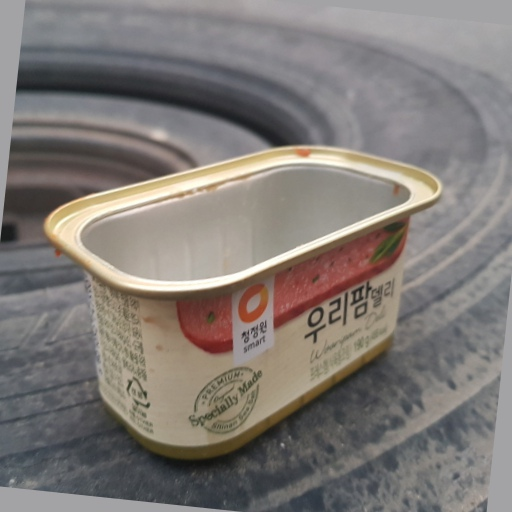Metal_2: (43, 143, 442, 458)
